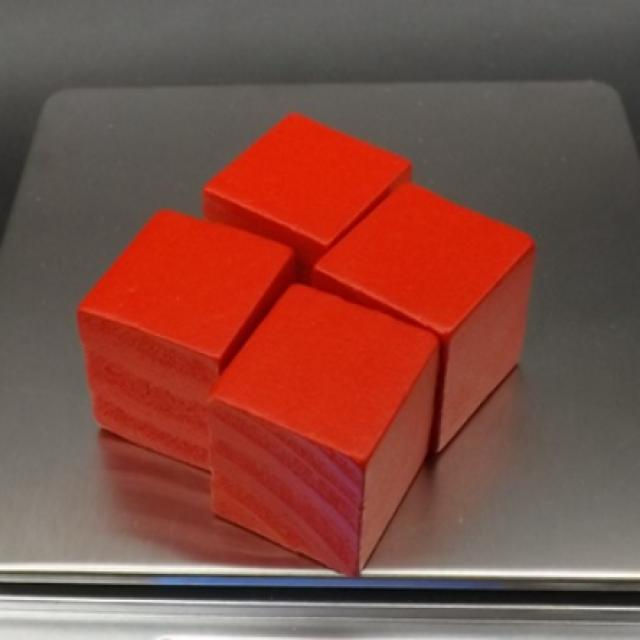red cube: (205, 282, 442, 580), (312, 179, 536, 456), (75, 206, 299, 473), (204, 110, 414, 283)
